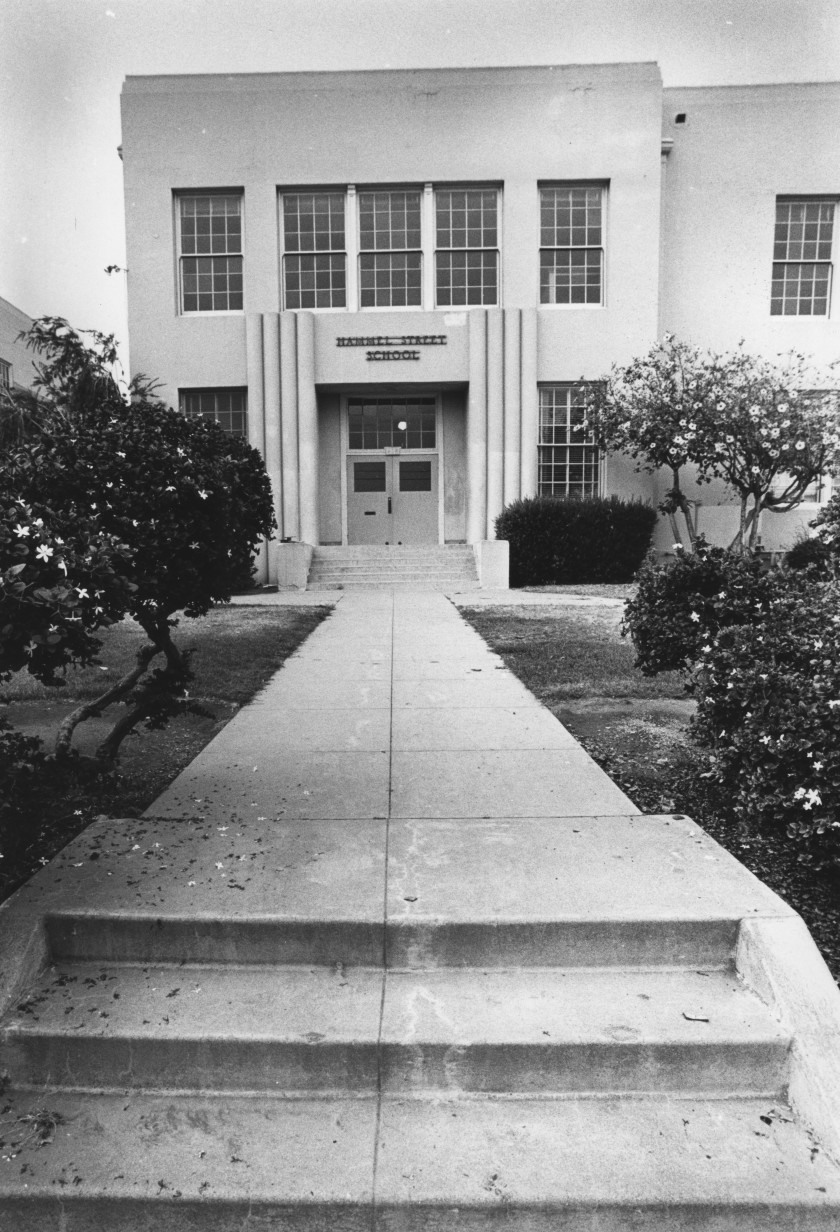upstairs: (75, 893, 742, 1232)
